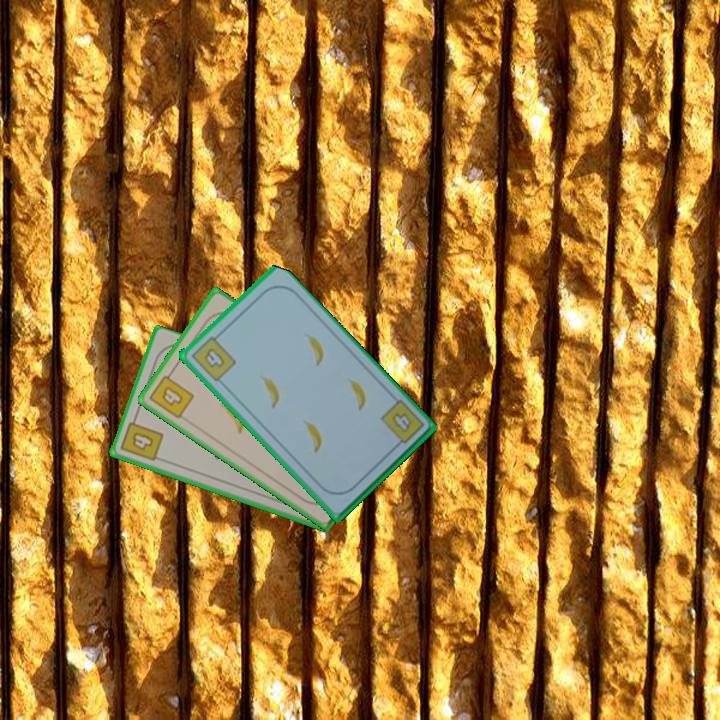4b: (145, 367, 197, 422), (376, 396, 427, 452), (187, 330, 239, 384), (117, 413, 166, 464)
